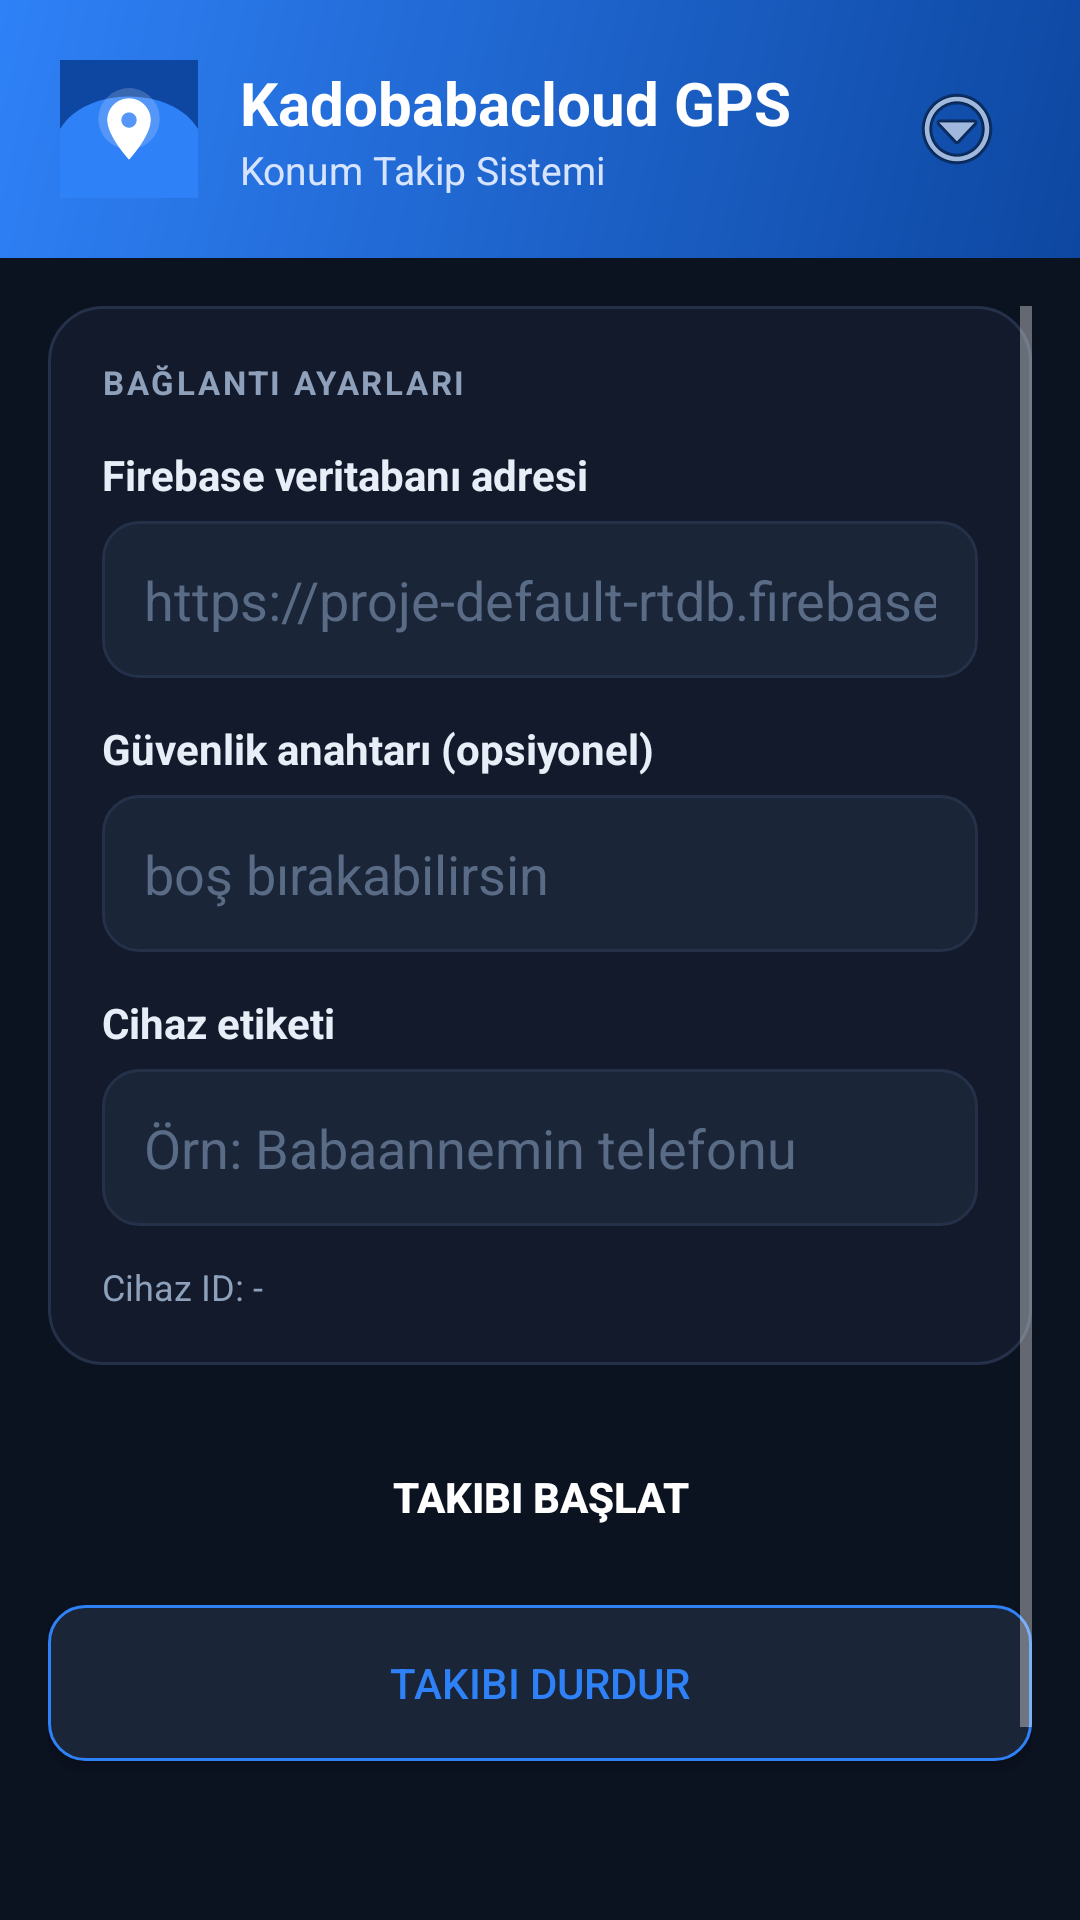

Icon bounding boxes for this 1080×1920 phone screenshot, format bbox=(x1, y1, x2, y2):
Menü: bbox=(922, 94, 992, 164)
